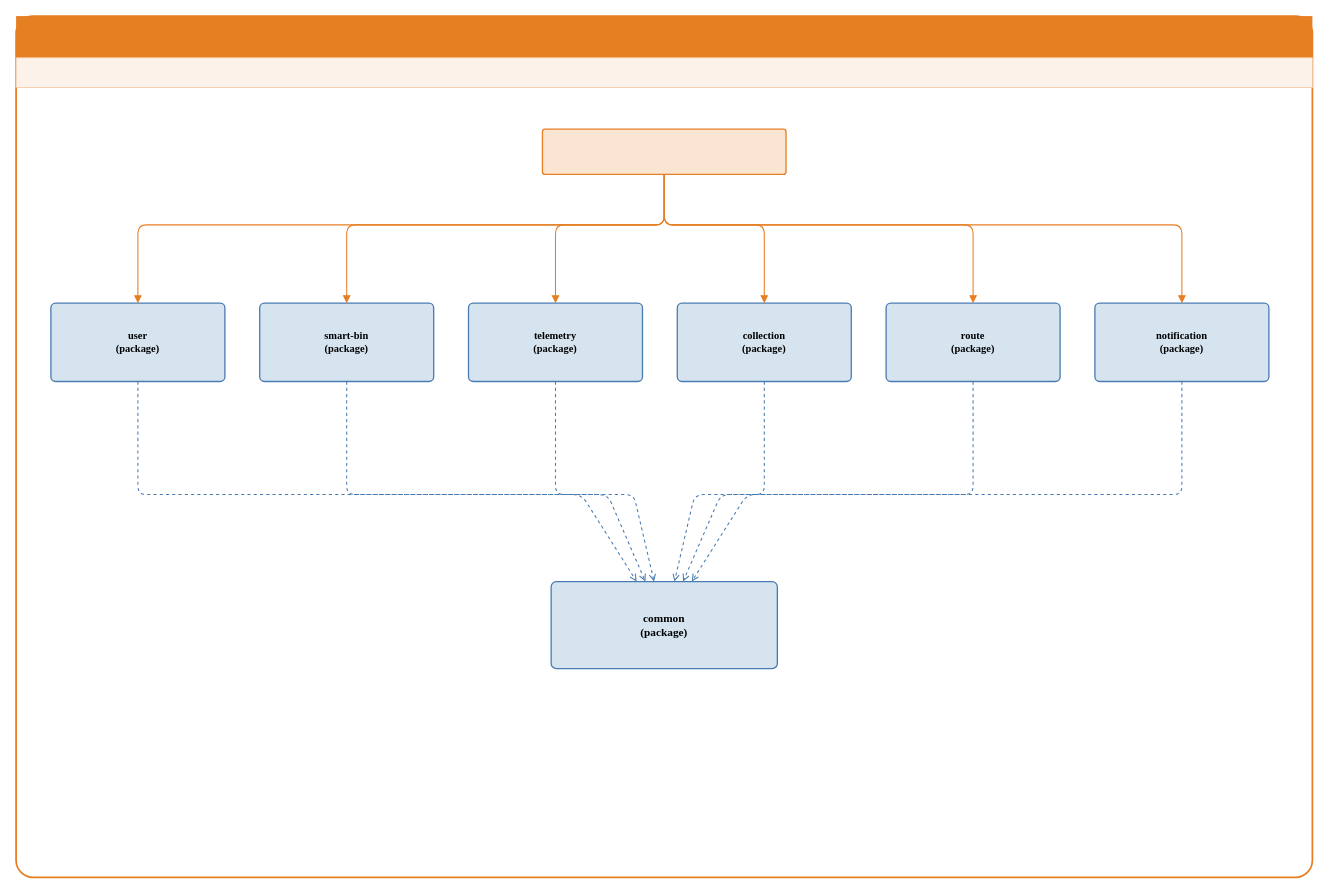
This 1328x893 diagram has some shape labels left out. Each missing label, with the centre of its shape:
"8. PACKAGE DIAGRAM" goes at (x=664, y=36).
"Mô tả cấu trúc gói (package) của hệ thống" goes at (x=663, y=72).
"smart-waste-system" goes at (x=663, y=151).
